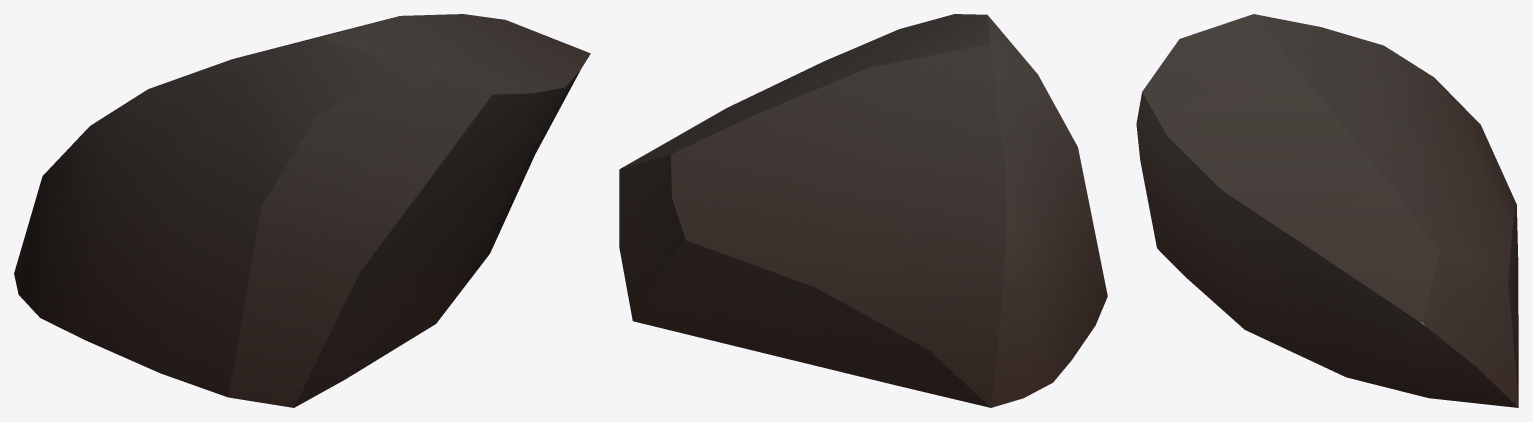
The model's file is Mountain_Stone_Dark_004.FBX.
The picture shows the model from 3 angles, left to right: view 1: azimuth 30°, elevation 25°; view 2: azimuth 150°, elevation 25°; view 3: azimuth 270°, elevation 25°; orthographic projection. The views are drawn at different scales.
Parts seen in each view (by area): view 1: Mountain_Stone_Dark_004; view 2: Mountain_Stone_Dark_004; view 3: Mountain_Stone_Dark_004.
Boxes of the visible parts, left/top/right/bottom form: Mountain_Stone_Dark_004: left=14, top=14, right=590, bottom=407; Mountain_Stone_Dark_004: left=619, top=14, right=1107, bottom=407; Mountain_Stone_Dark_004: left=1136, top=14, right=1518, bottom=407.
Bounding box in the file's own units: 442 × 238 × 308.
1 material, 1 textured.
